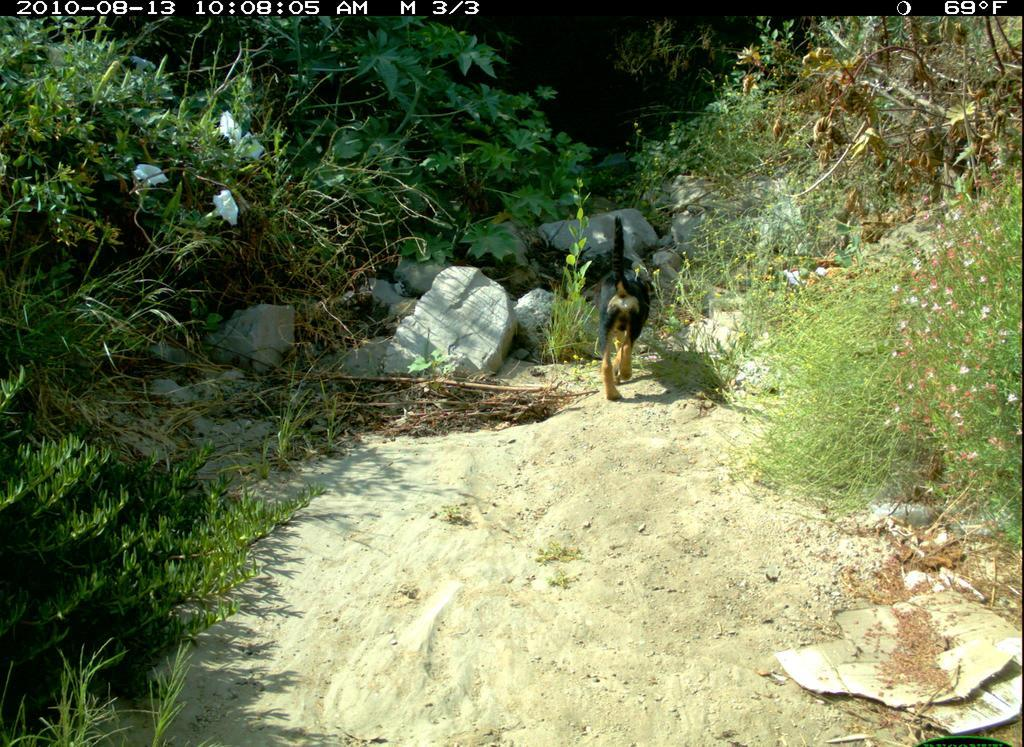dog: (569, 210, 662, 410)
